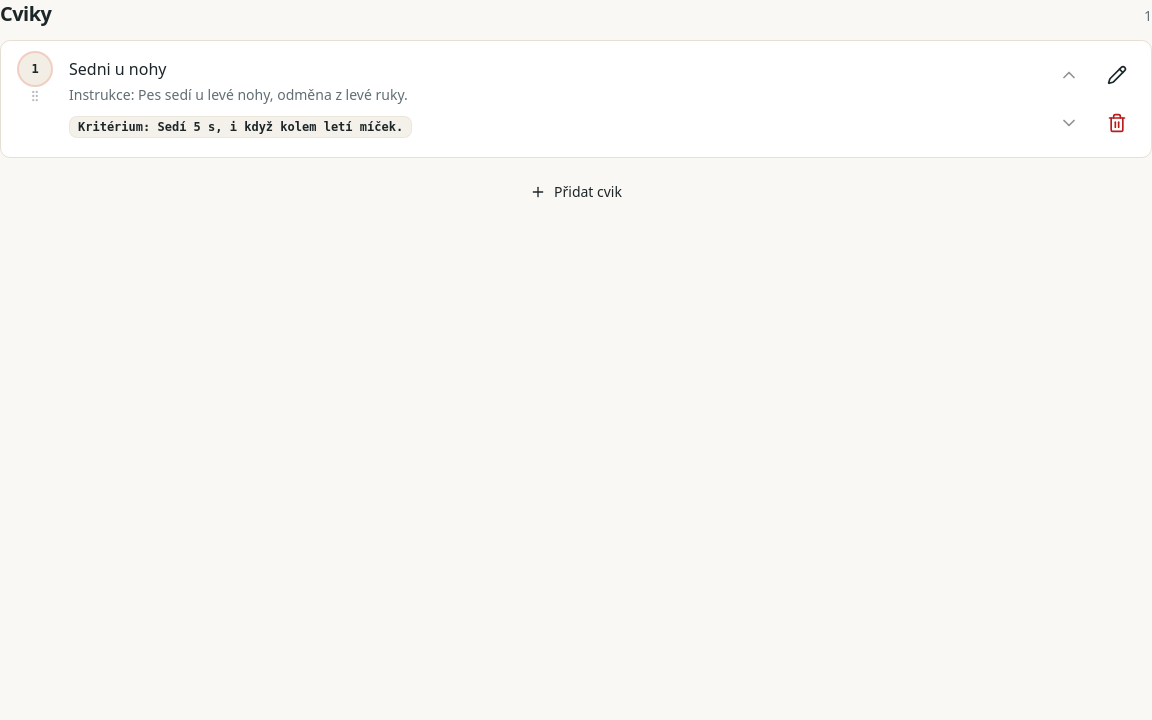
Test: PlanBlocksSection › asks before deleting a block and keeps it on cancel
The image size is (1152, 720).
Click the button named "Smazat cvik Sedni u nohy".
click(1117, 123)  # box [1095,101,1139,145]
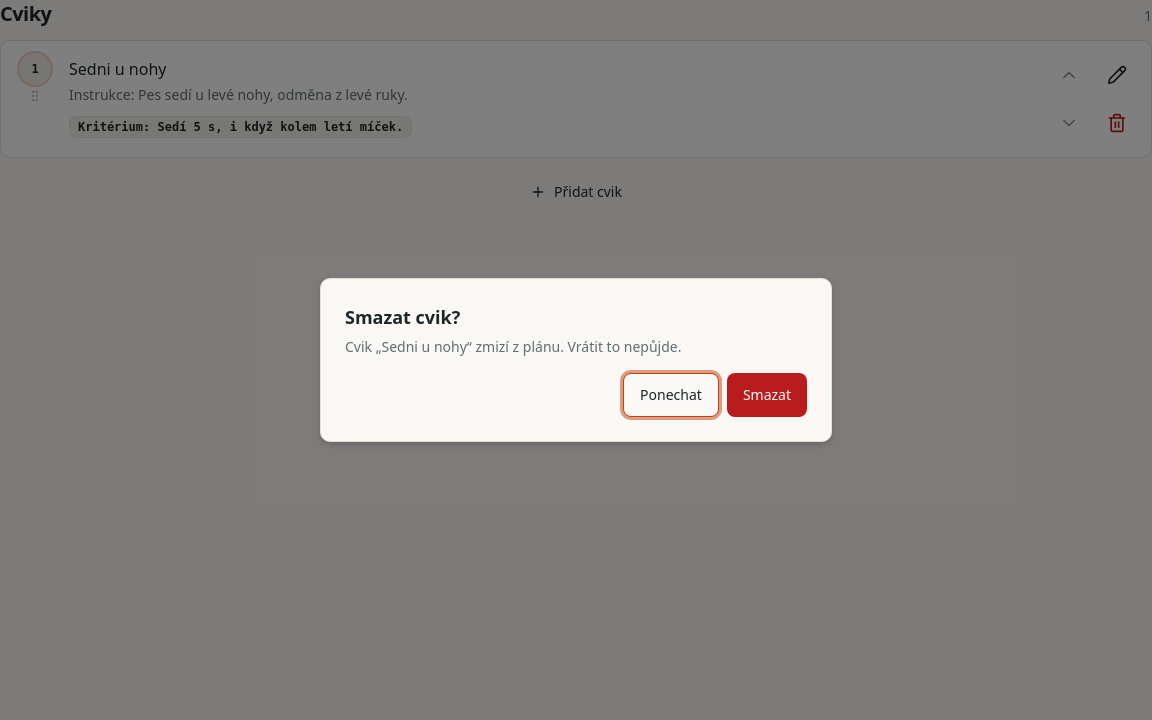
Check: the text "Cvik „Sedni u nohy“ zmizí z plánu. Vrátit to nepůjde." is shown, box [345,337,681,357]
Click the button "Ponechat".
click(671, 395)  # box [623,373,719,417]
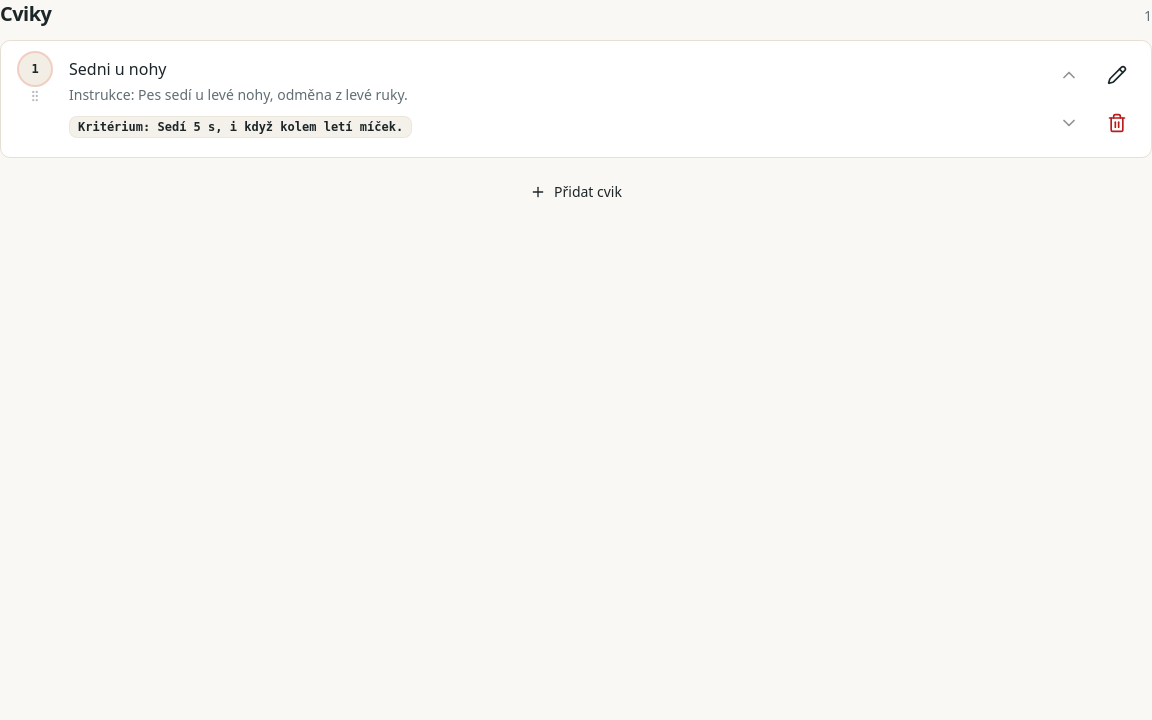
Check: the button that starts with "Sedni u nohy" is shown, box [69,53,1035,145]
Check: the dialog is gone
